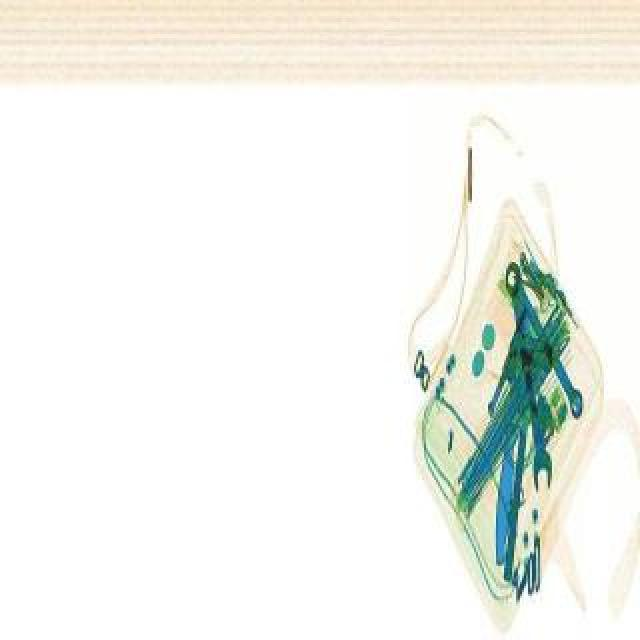gun: (482, 332, 564, 434)
knife: (494, 400, 518, 568)
scissors: (500, 264, 594, 424), (502, 264, 558, 492)
